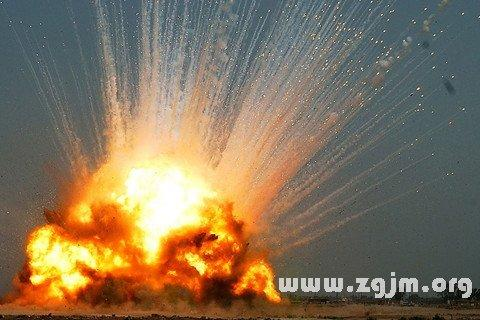fire: (16, 32, 285, 310)
